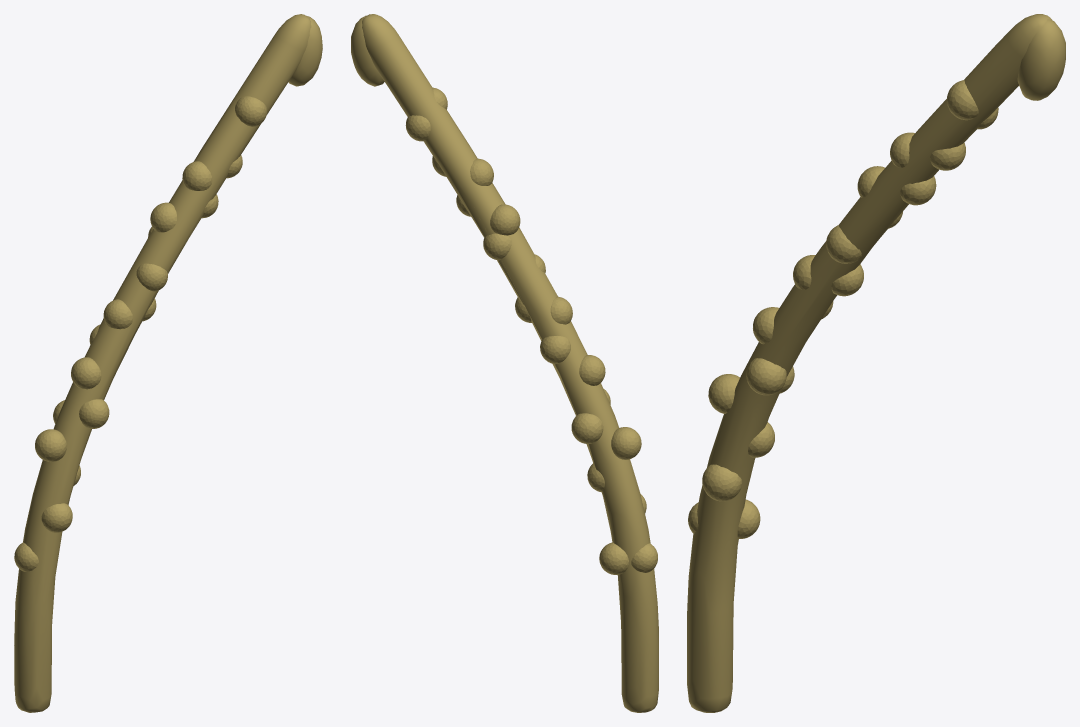
Rendered from cara4.obj.
3 renders of one model, left to right at view 1: azimuth 30°, elevation 25°; view 2: azimuth 150°, elevation 25°; view 3: azimuth 330°, elevation 25°, orthographic. The views are drawn at different scales.
Parts seen in each view (by area): view 1: Cube.001; view 2: Cube.001; view 3: Cube.001.
Boxes of the visible parts, x1=… form: Cube.001: x1=14, y1=14, x2=322, y2=712; Cube.001: x1=351, y1=14, x2=658, y2=712; Cube.001: x1=687, y1=14, x2=1065, y2=712.
Size of the model in its own units: 1.7 by 3.38 by 0.3064.
1 material, 1 textured.
